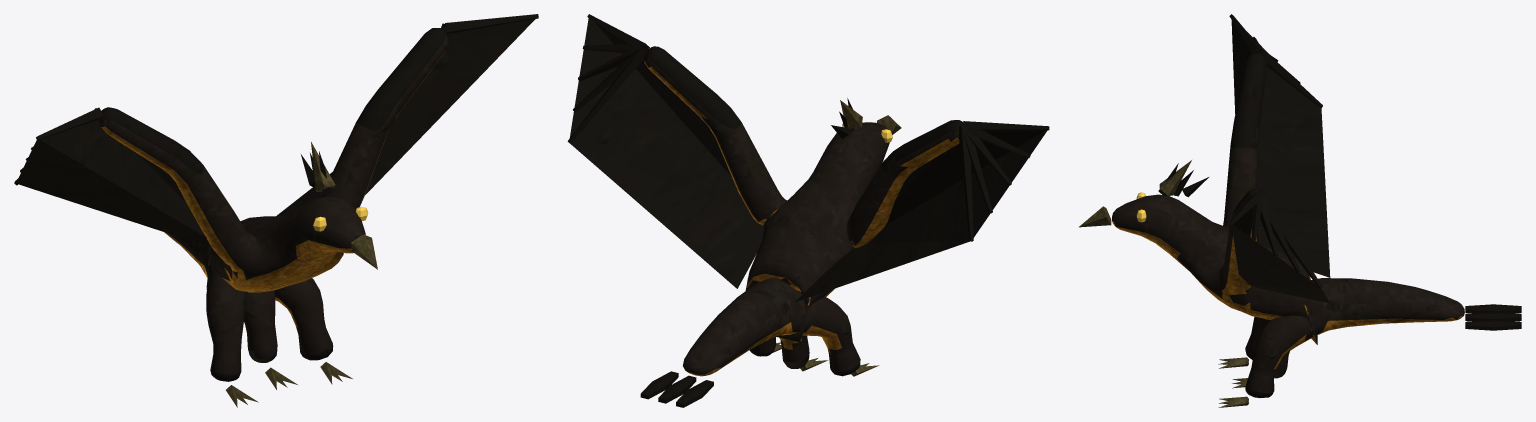
Rendered from pet_pt_samjogo.glb.
3 renders of one model, left to right at view 1: azimuth 30°, elevation 25°; view 2: azimuth 150°, elevation 25°; view 3: azimuth 270°, elevation 25°, orthographic. The views are drawn at different scales.
Parts seen in each view (by area): view 1: pet_pt_samjogo; view 2: pet_pt_samjogo; view 3: pet_pt_samjogo.
Boxes of the visible parts, left/top/right/bottom form: pet_pt_samjogo: left=14, top=14, right=538, bottom=407; pet_pt_samjogo: left=567, top=14, right=1049, bottom=407; pet_pt_samjogo: left=1079, top=14, right=1521, bottom=407.
Size of the model in its own units: 1.32 by 0.794 by 1.19.
Materials: 5 (4 with a texture image).
